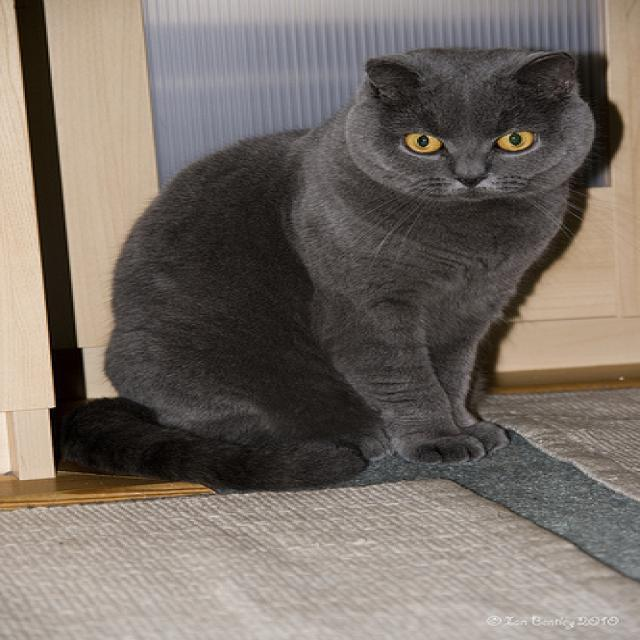British_Shorthair: (341, 35, 614, 209)
